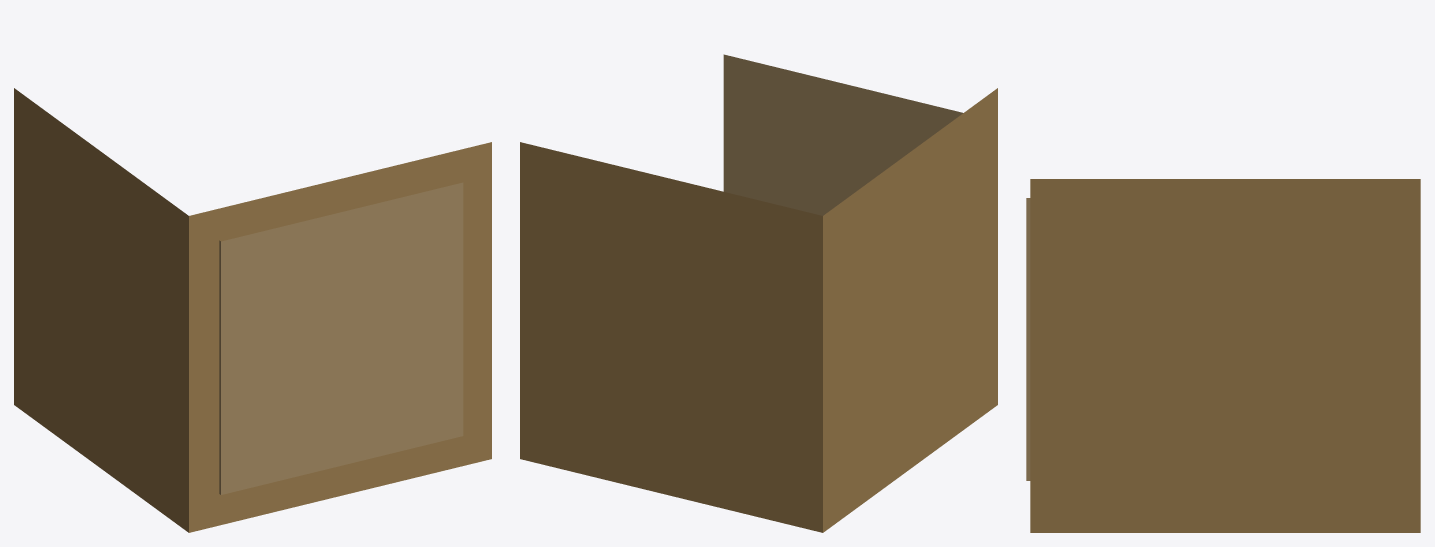
Rendered from Wall-oak.glb.
The picture shows the model from 3 angles, left to right: view 1: azimuth 30°, elevation 25°; view 2: azimuth 150°, elevation 25°; view 3: azimuth 270°, elevation 25°; orthographic projection. The views are drawn at different scales.
Parts seen in each view (by area): view 1: Wall; view 2: Wall; view 3: Wall.
Part boxes in pixels (x1,y1,x2,y2): Wall: [14, 88, 491, 532]; Wall: [520, 54, 997, 532]; Wall: [1026, 179, 1420, 532].
Bounding box in the file's own units: 1 × 1 × 1.01.
